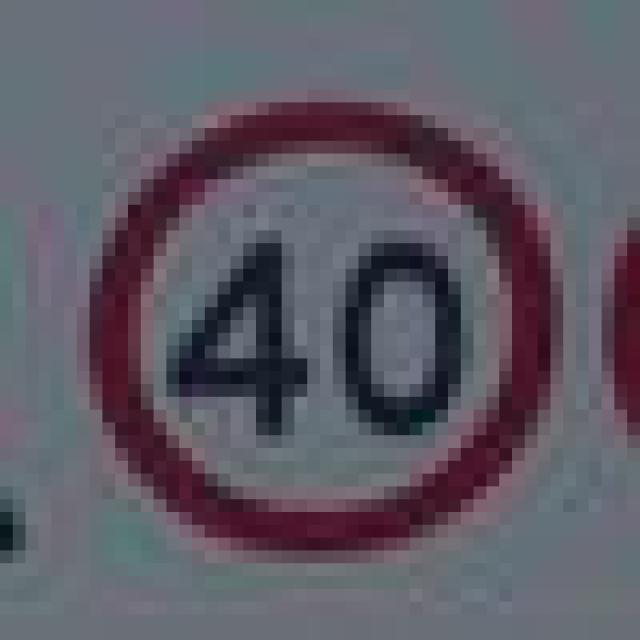falling_rocks: (64, 77, 550, 550)
